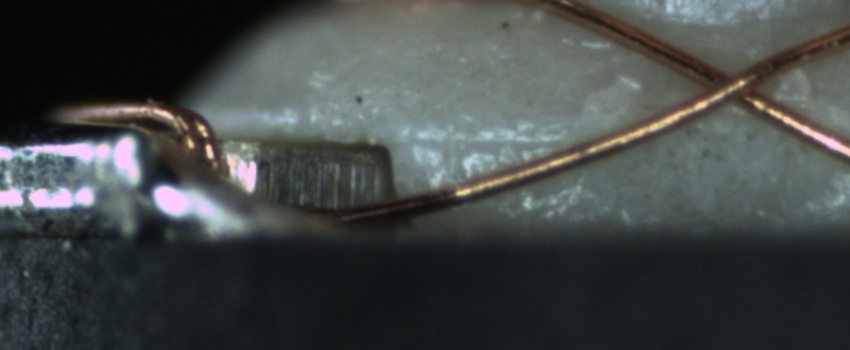CL: (675, 49, 780, 118)
DL: (406, 106, 573, 168)
TE: (51, 102, 250, 192)
